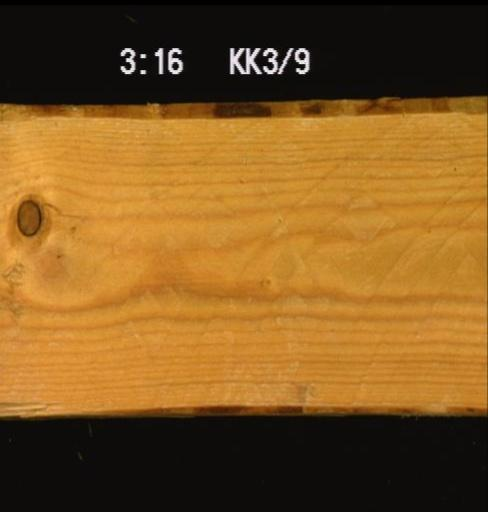dry_knot: (13, 197, 41, 237)
wave: (0, 95, 486, 127), (0, 389, 486, 419)
